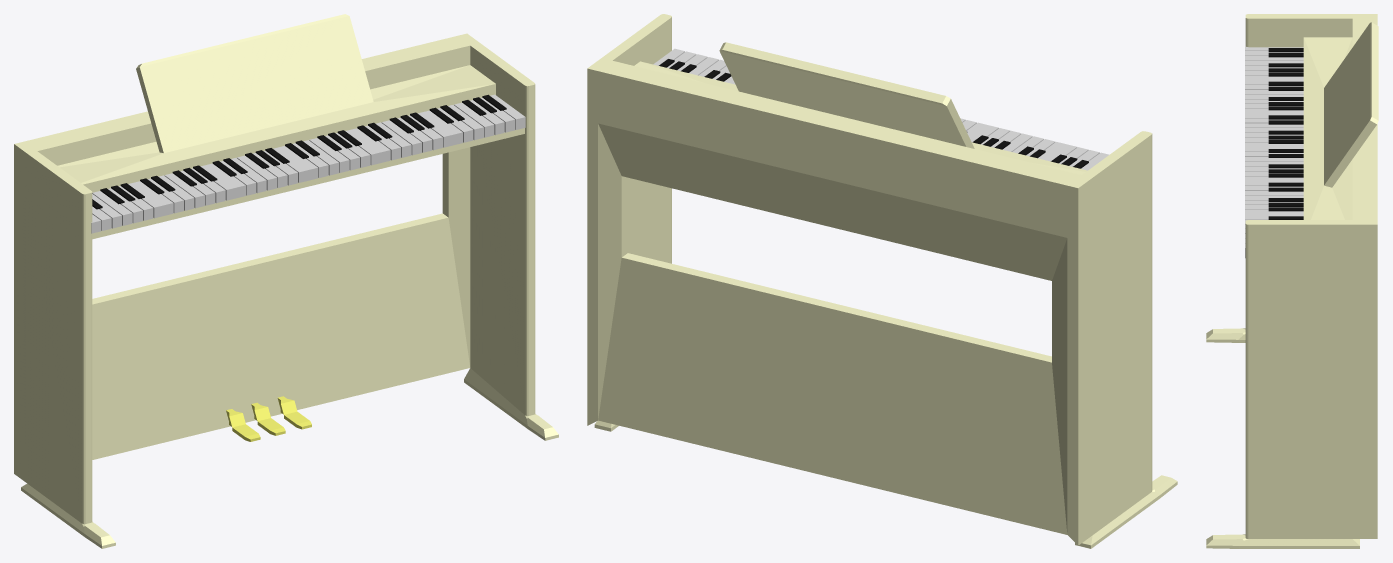
Rendered from Piano6.fbx.
3 renders of one model, left to right at view 1: azimuth 30°, elevation 25°; view 2: azimuth 150°, elevation 25°; view 3: azimuth 270°, elevation 25°, orthographic. The views are drawn at different scales.
Visible parts, largest first — view 1: 49keysmidi.034; view 2: 49keysmidi.034; view 3: 49keysmidi.034.
Boxes of the visible parts, left/top/right/bottom form: 49keysmidi.034: left=14, top=14, right=558, bottom=548; 49keysmidi.034: left=587, top=14, right=1177, bottom=548; 49keysmidi.034: left=1206, top=14, right=1378, bottom=548.
Bounding box in the file's own units: 139 × 114 × 47.63.
